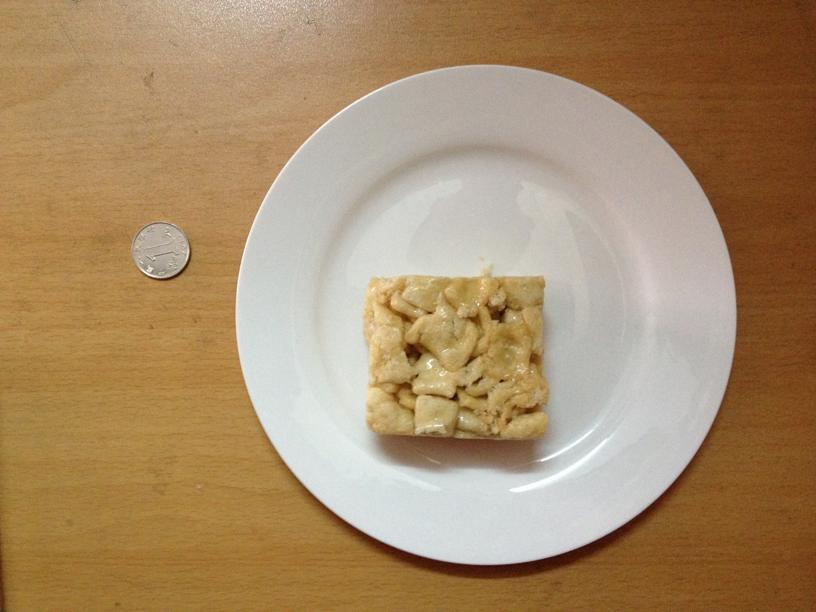coin: (134, 222, 191, 280)
sachima: (364, 274, 541, 438)
